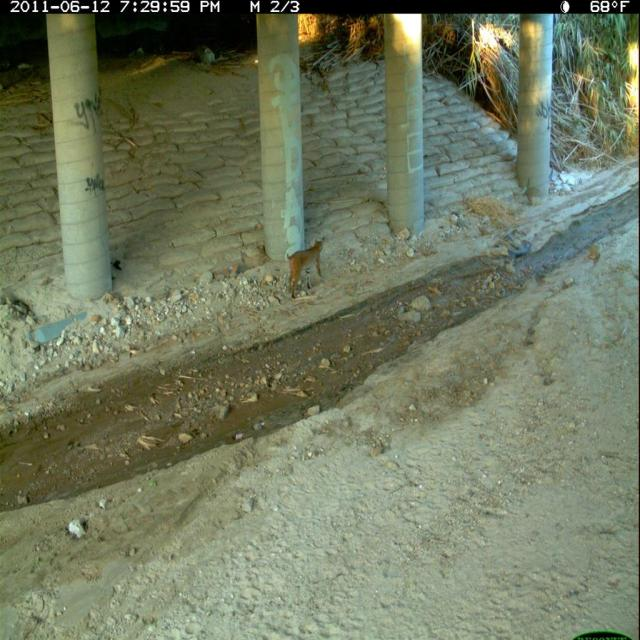bobcat: (282, 233, 329, 303)
